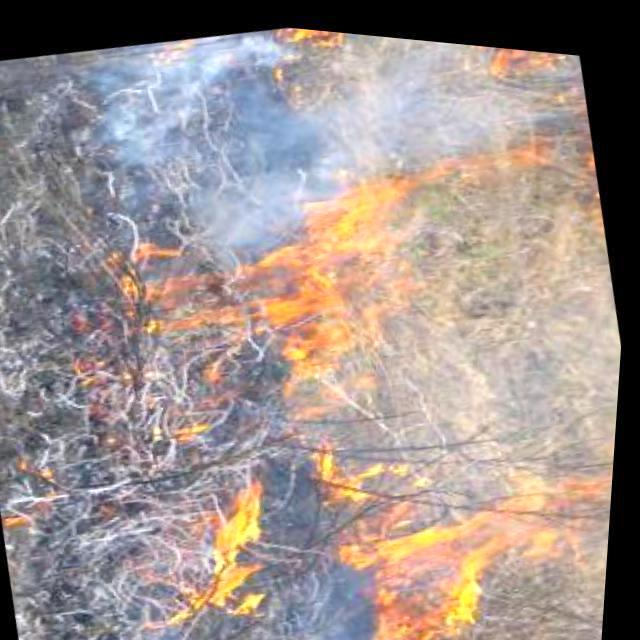fire: (95, 8, 537, 296), (329, 430, 619, 640), (132, 221, 416, 411), (258, 119, 536, 277), (142, 466, 322, 640)
